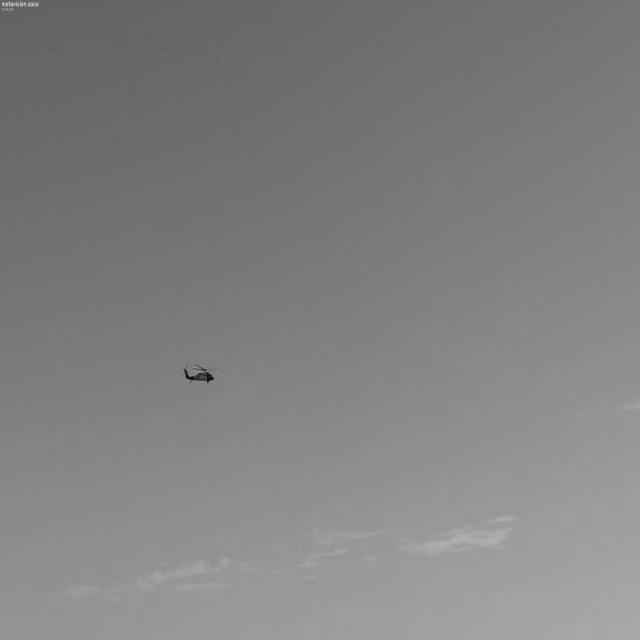helikopter: (160, 320, 259, 412)
